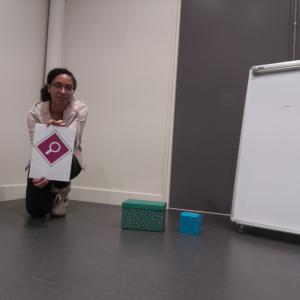search: (34, 129, 72, 165)
